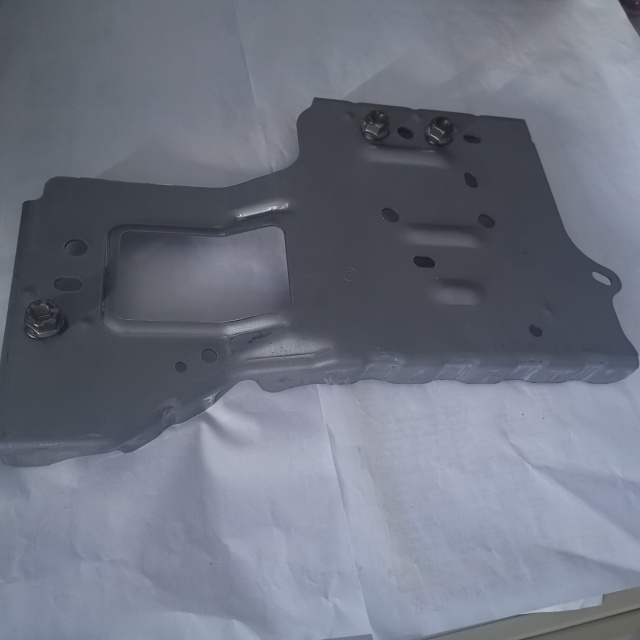dog: (22, 296, 64, 342), (358, 108, 393, 146), (423, 115, 457, 148)
